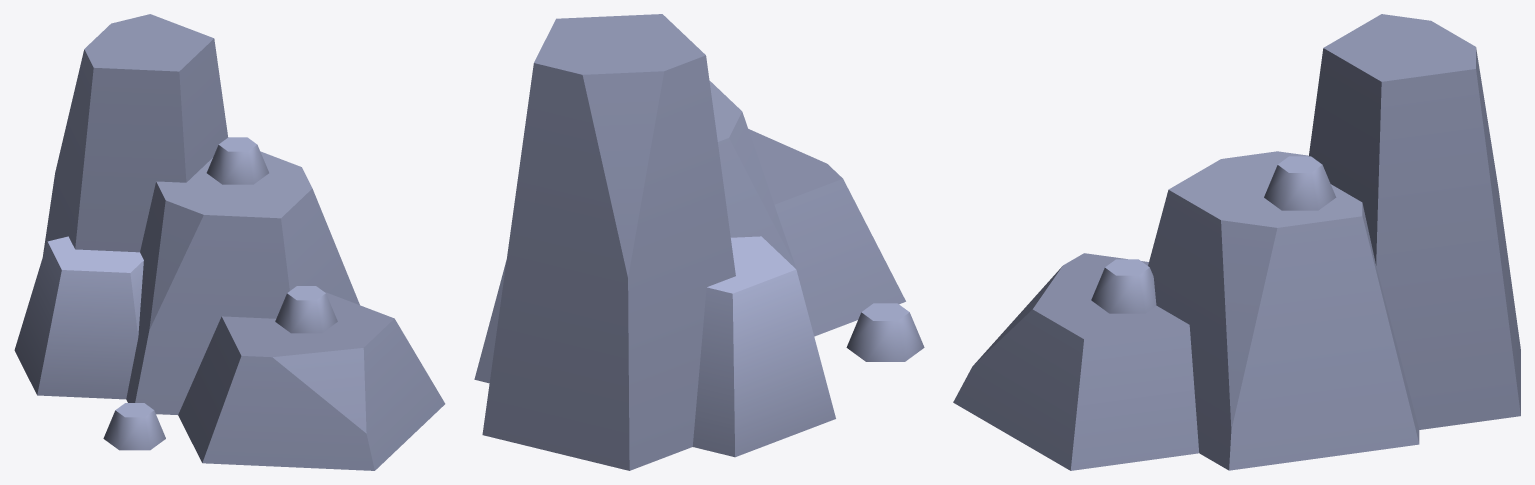
Rendered from rock_wide.glb.
3 views of the same model, side by side, from view 1: azimuth 30°, elevation 25°; view 2: azimuth 150°, elevation 25°; view 3: azimuth 270°, elevation 25° (orthographic). The views are drawn at different scales.
Visible parts, largest first — view 1: rock-wide; view 2: rock-wide; view 3: rock-wide.
Part boxes in pixels (<box>): rock-wide: <box>14,14,445,470</box>; rock-wide: <box>474,14,924,470</box>; rock-wide: <box>953,14,1520,470</box>.
Bounding box in the file's own units: 1.09 × 1.02 × 1.57.
Materials: 1 (1 with a texture image).
